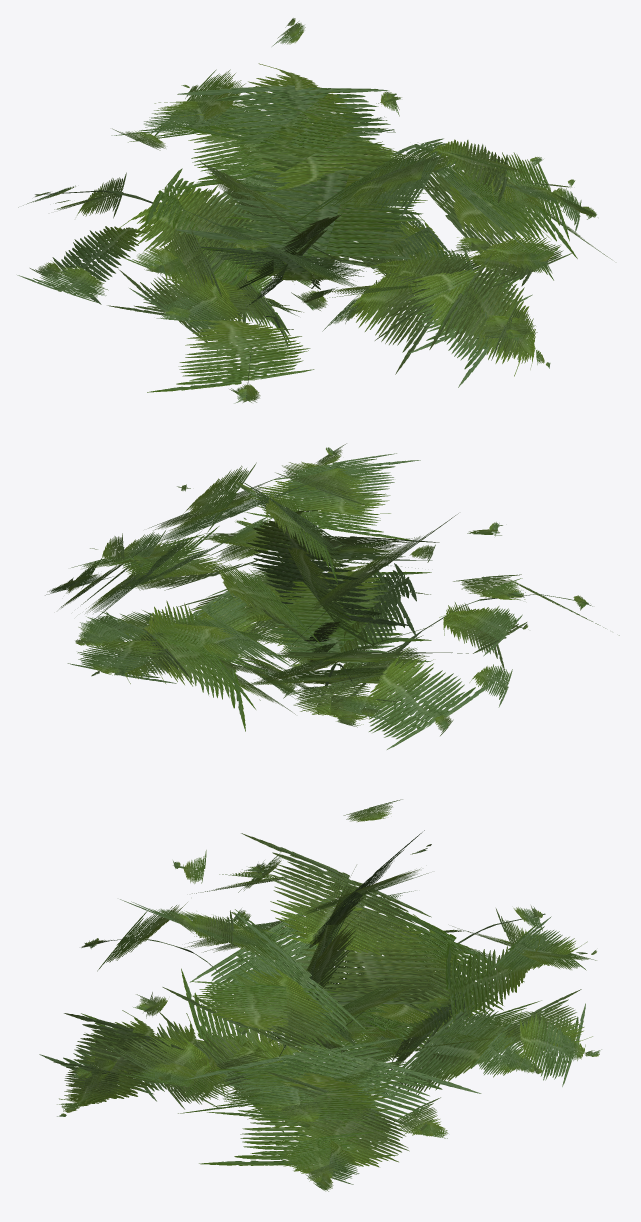
File: fern_01_lod2.glb
3 views of the same model, one above another, from view 1: azimuth 30°, elevation 25°; view 2: azimuth 150°, elevation 25°; view 3: azimuth 270°, elevation 25° (orthographic). The views are drawn at different scales.
Visible parts, largest first — view 1: AE_15TH_FERN_01_LOD2; view 2: AE_15TH_FERN_01_LOD2; view 3: AE_15TH_FERN_01_LOD2.
Part boxes in pixels (<box>): AE_15TH_FERN_01_LOD2: <box>17,18,611,403</box>; AE_15TH_FERN_01_LOD2: <box>45,443,619,749</box>; AE_15TH_FERN_01_LOD2: <box>39,799,601,1191</box>.
Bounding box in the file's own units: 0.7642 × 0.3681 × 0.7276.
Materials: 4 (4 with a texture image).
